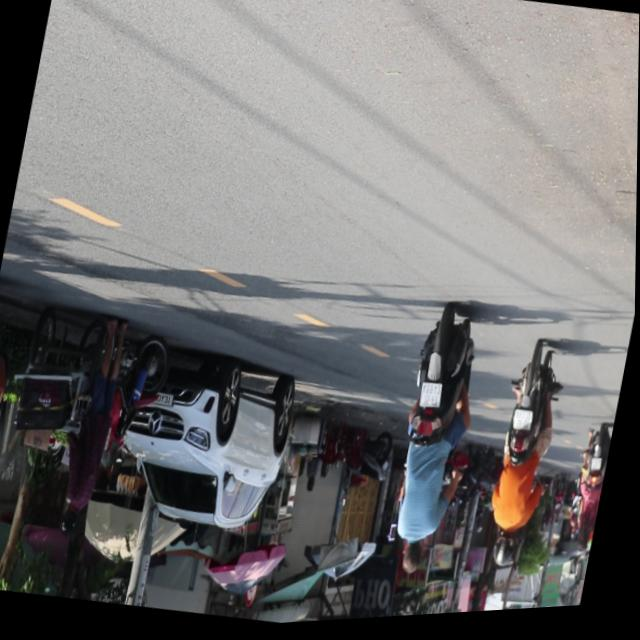helmet: (491, 534, 519, 576)
licenseplate: (375, 306, 492, 590), (475, 345, 573, 583)
motorcyclist: (398, 542, 425, 583)
nohelmet: (418, 387, 443, 415), (513, 414, 534, 438)
